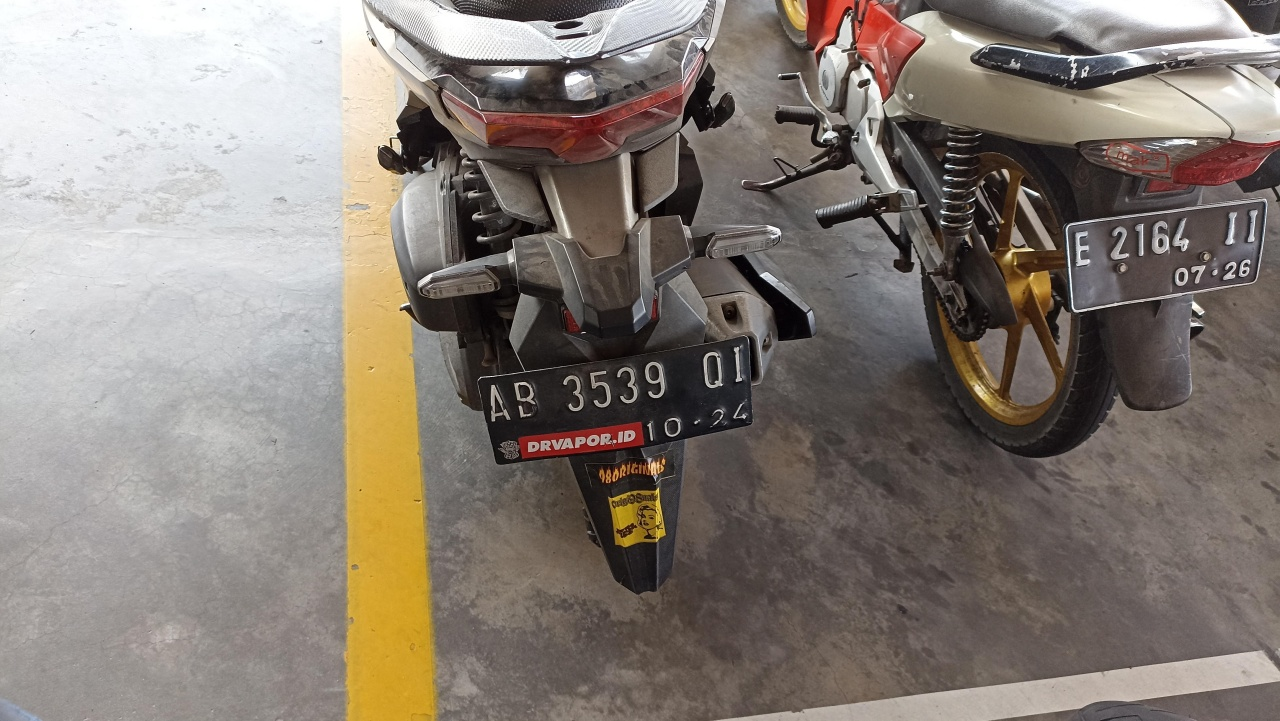plate: (479, 338, 755, 467), (1066, 200, 1266, 314)
